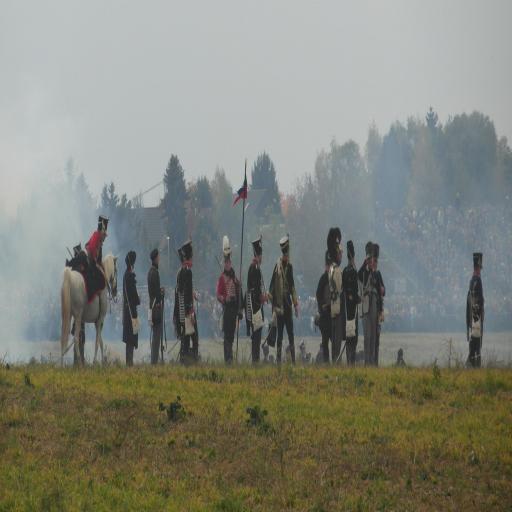horse: (60, 254, 120, 370)
